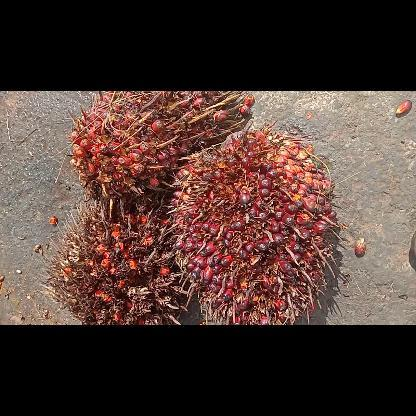TBS masak: (164, 122, 342, 324), (69, 91, 245, 215)
Terlalu masak: (39, 200, 186, 324)
